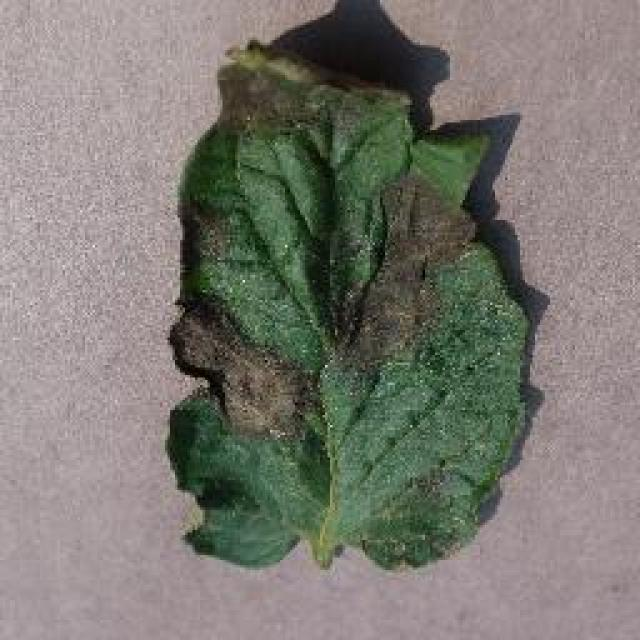Tomato late blight leaf: (165, 41, 550, 581)
